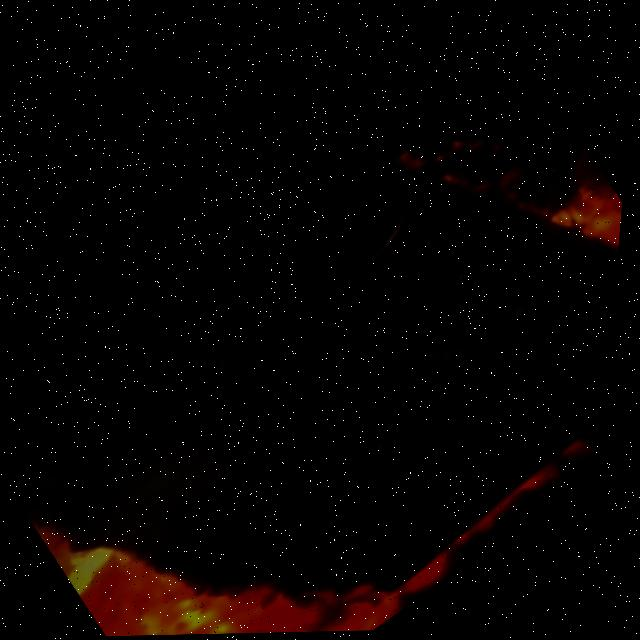Fire: (29, 363, 432, 639), (360, 52, 636, 442)
Smoke: (0, 0, 351, 429)
